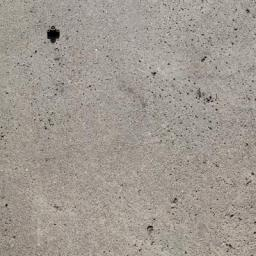FOD: (45, 22, 65, 48)
